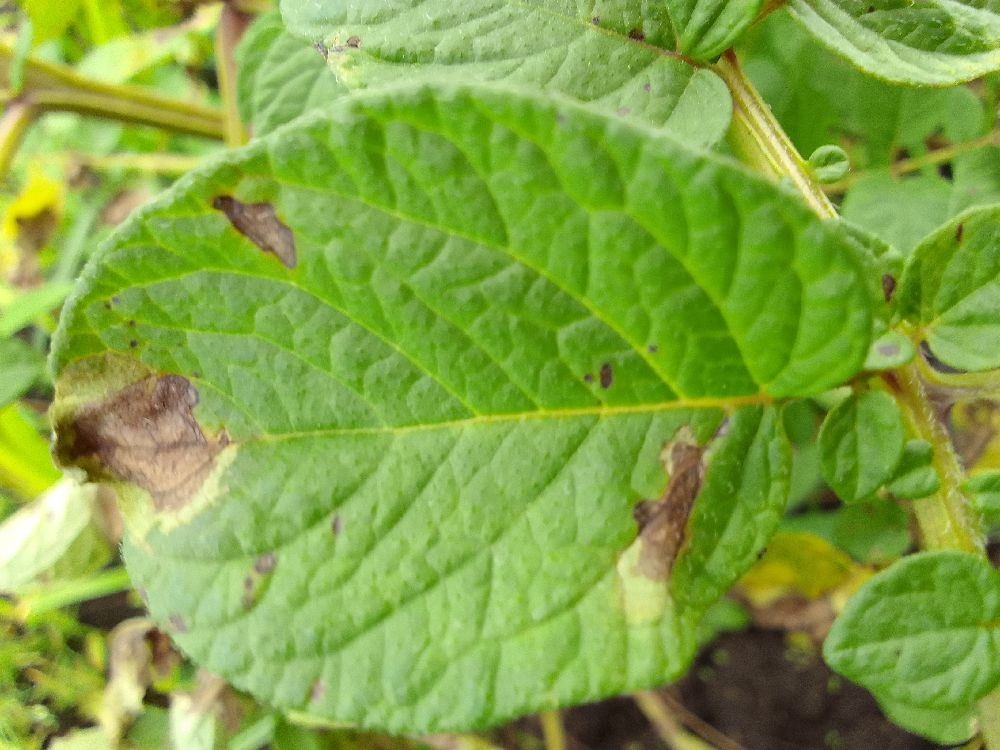late_blight: (340, 529, 940, 749), (29, 336, 261, 595), (615, 407, 739, 600), (49, 574, 205, 725)
